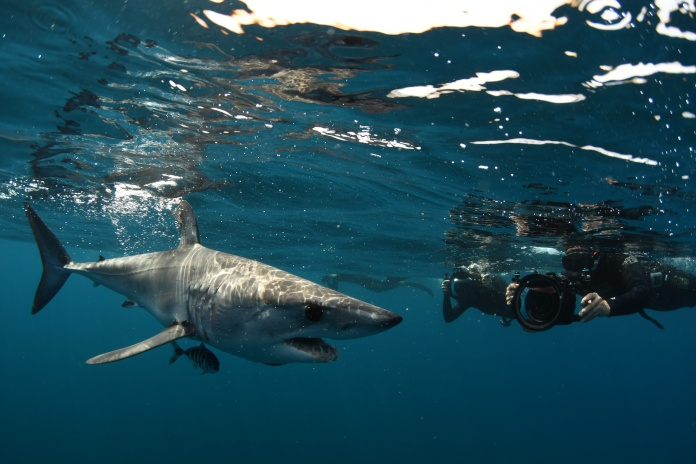Mako: (16, 183, 408, 384)
